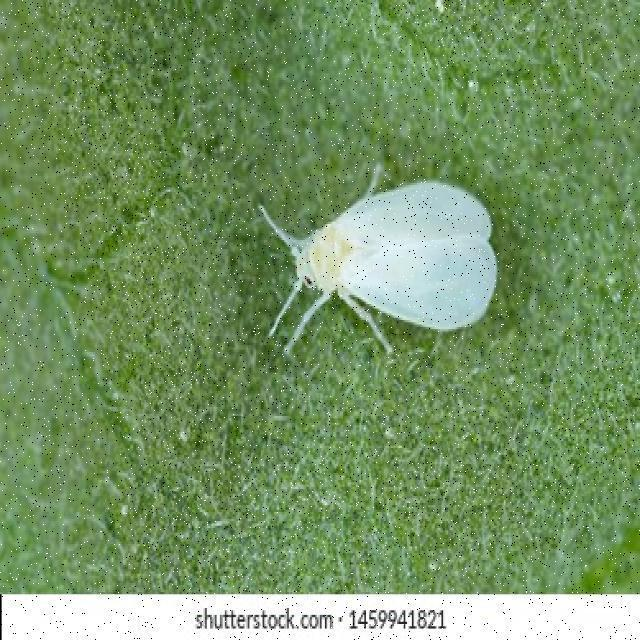Whiteflies: (222, 150, 550, 363)
